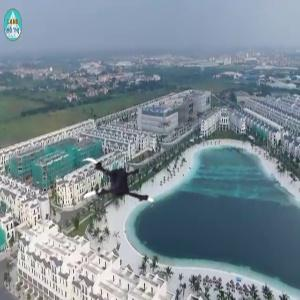drone: (70, 145, 157, 232)
